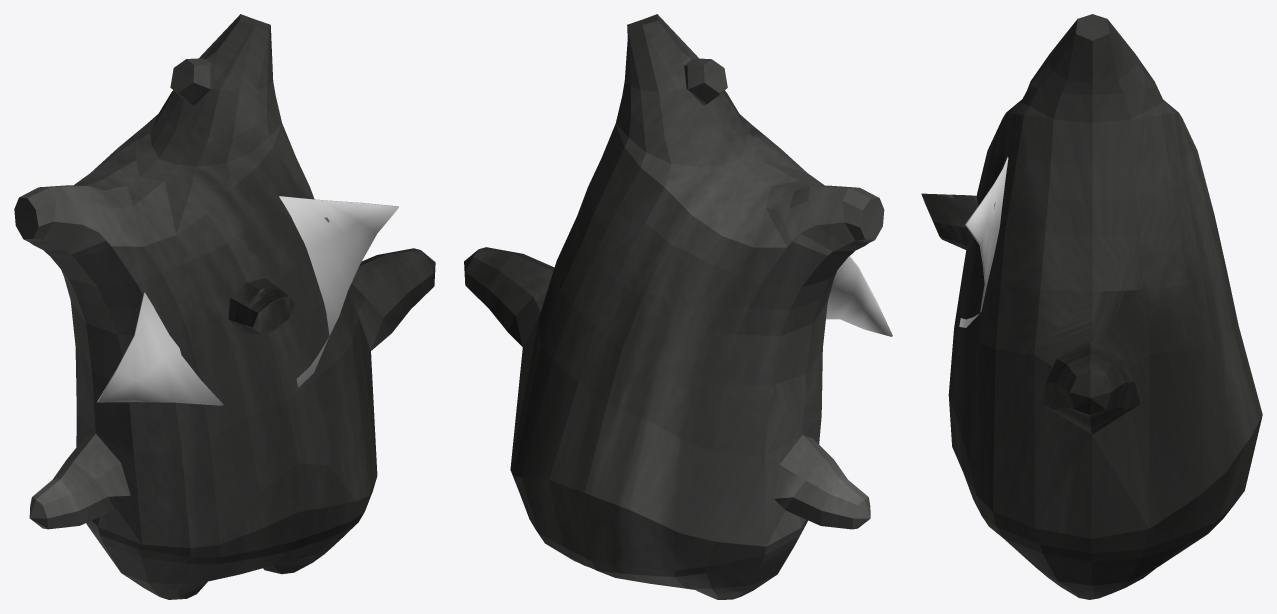
Rendered from frame_0028.obj.
3 renders of one model, left to right at view 1: azimuth 30°, elevation 25°; view 2: azimuth 150°, elevation 25°; view 3: azimuth 270°, elevation 25°, orthographic.
Visible parts, largest first — view 1: korok, leaf, nose; view 2: korok, leaf; view 3: korok, leaf, nose.
Part boxes in pixels (<box>): korok: <box>14,14,435,599</box>; leaf: <box>97,196,398,405</box>; nose: <box>228,278,294,333</box>; korok: <box>464,14,884,599</box>; leaf: <box>826,256,892,336</box>; korok: <box>948,14,1262,599</box>; leaf: <box>959,157,1008,327</box>; nose: <box>921,193,978,249</box>.
Bounding box in the file's own units: 1.77 × 2.3 × 1.27.
